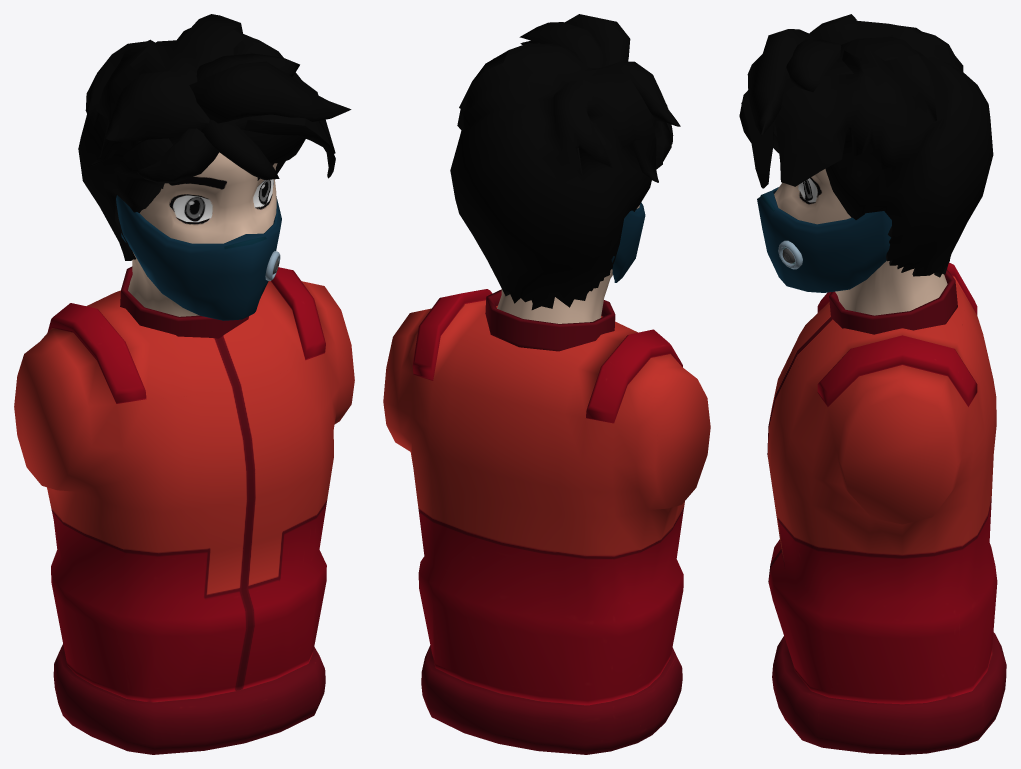
File: _ishamBody.fbx
The picture shows the model from 3 angles, left to right: view 1: azimuth 30°, elevation 25°; view 2: azimuth 150°, elevation 25°; view 3: azimuth 270°, elevation 25°; orthographic projection. The views are drawn at different scales.
Parts seen in each view (by area): view 1: Cube, Wolf3D_Hair.001, Plane, Sphere; view 2: Cube, Wolf3D_Hair.001, Sphere, Plane; view 3: Cube, Wolf3D_Hair.001, Plane, Sphere.
Boxes of the visible parts, box(x1,y1,x2,y2) form: Cube: box(14, 266, 354, 754); Wolf3D_Hair.001: box(78, 14, 351, 260); Plane: box(116, 195, 281, 320); Sphere: box(128, 152, 277, 316); Cube: box(383, 289, 710, 754); Wolf3D_Hair.001: box(450, 14, 680, 309); Sphere: box(497, 205, 639, 323); Plane: box(611, 202, 645, 282); Cube: box(767, 262, 1006, 754); Wolf3D_Hair.001: box(739, 14, 993, 277); Plane: box(757, 187, 891, 292); Sphere: box(774, 169, 947, 315).
Size of the model in its own units: 44.69 by 102 by 36.84.
Materials: 9 (3 with a texture image).
